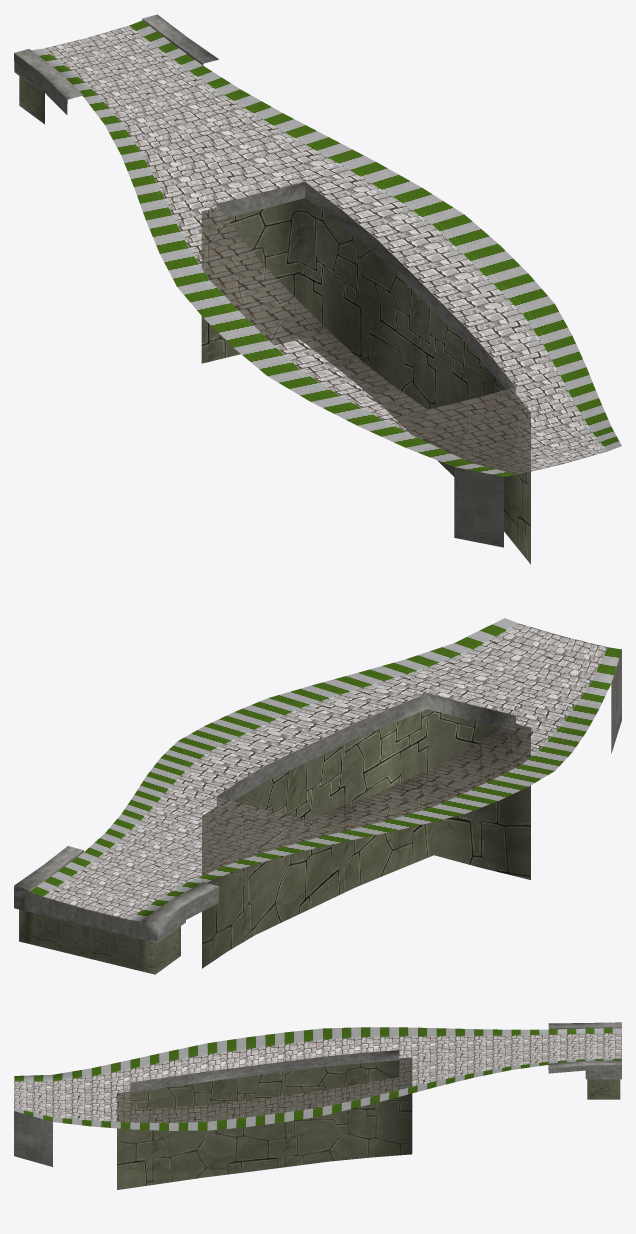
Rendered from road_reverse.glb.
3 views of the same model, one above another, from view 1: azimuth 30°, elevation 25°; view 2: azimuth 150°, elevation 25°; view 3: azimuth 270°, elevation 25° (orthographic). The views are drawn at different scales.
Parts seen in each view (by area): view 1: stktex_generic_cobbleStoneA.png__, stktex_generic_aztekWall_a.png__, stk_generic_borderDarkGreenA.png__, stktex_generic_concreteA.png__; view 2: stktex_generic_aztekWall_a.png__, stktex_generic_cobbleStoneA.png__, stk_generic_borderDarkGreenA.png__, stktex_generic_concreteA.png__; view 3: stktex_generic_aztekWall_a.png__, stktex_generic_cobbleStoneA.png__, stk_generic_borderDarkGreenA.png__, stktex_generic_concreteA.png__.
Part boxes in pixels (<box>): stktex_generic_cobbleStoneA.png__: <box>43,26,607,474</box>; stktex_generic_aztekWall_a.png__: <box>19,76,530,564</box>; stk_generic_borderDarkGreenA.png__: <box>32,20,621,476</box>; stktex_generic_concreteA.png__: <box>14,14,515,547</box>; stktex_generic_aztekWall_a.png__: <box>19,709,530,974</box>; stktex_generic_cobbleStoneA.png__: <box>43,623,607,919</box>; stk_generic_borderDarkGreenA.png__: <box>29,618,621,921</box>; stktex_generic_concreteA.png__: <box>14,650,621,943</box>; stktex_generic_aztekWall_a.png__: <box>117,1057,620,1189</box>; stktex_generic_cobbleStoneA.png__: <box>14,1033,621,1122</box>; stk_generic_borderDarkGreenA.png__: <box>14,1027,621,1130</box>; stktex_generic_concreteA.png__: <box>14,1022,621,1166</box>.
Bounding box in the file's own units: 38.43 × 31.86 × 108.
Materials: 4 (4 with a texture image).
